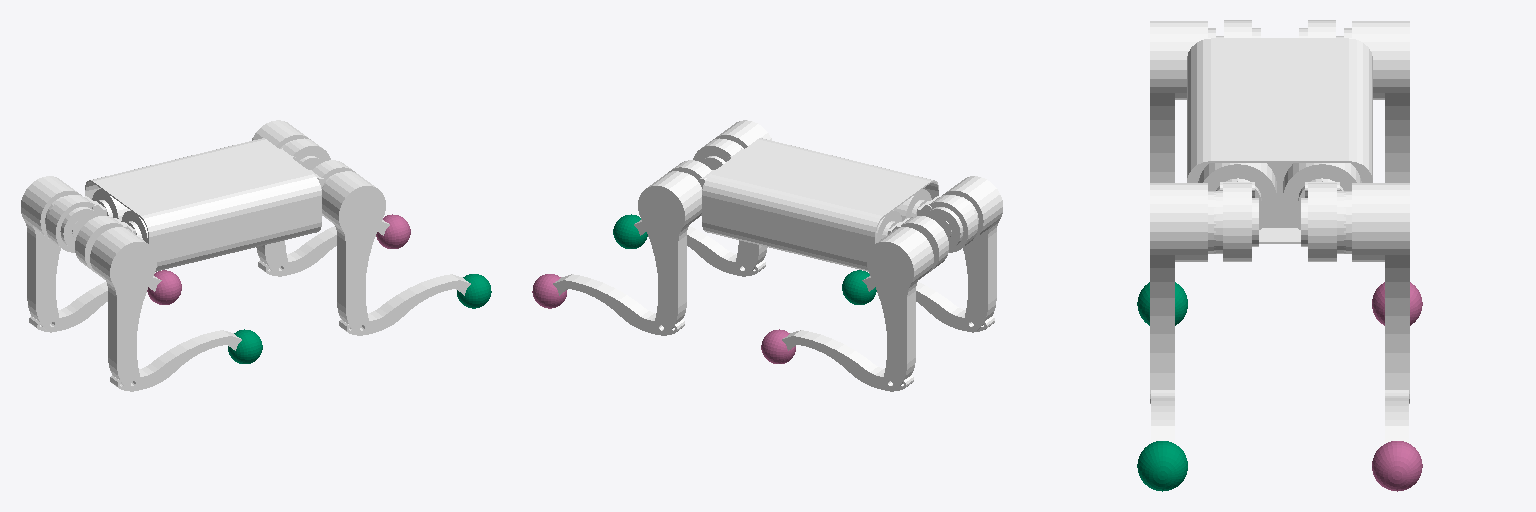
The robot description file, URDF, robot "QXHZZ_description":
<?xml version="1.0" encoding="utf-8"?>
<!-- This URDF was automatically created by SolidWorks to URDF Exporter! Originally created by
Stephen Brawner (brawner@gmail.com) 
     Commit Version: 1.6.0-1-g15f4949  Build Version: 1.6.7594.29634
     For more information, please see http://wiki.ros.org/sw_urdf_exporter -->
<robot name="QXHZZ_description">
    <mujoco>
        <compiler meshdir="../meshes/" balanceinertia="true" discardvisual="false" autolimits="true" />
    </mujoco>
    <!-- 巨大的问题是Bodies touching ground (Indices): tensor([ 3,7,11, 15], device='cuda:0') #实际上 3 7 11 15不同时全部出现
    Feet Indices: tensor([ 4,  8, 12, 16], device='cuda:0') 
    body_names: ['trunk', 'FL_hip', 'FL_thigh', 'FL_calf', 'FL_foot', 'FR_hip', 'FR_thigh', 'FR_calf', 'FR_foot', 
    'RL_hip', 'RL_thigh', 'RL_calf', 'RL_foot', 'RR_hip', 'RR_thigh', 'RR_calf', 'RR_foot', 'imu_link']

    由于calf的collision尺寸比feet大一圈:仿真里是calf而不是feet着地 
    Vertical Contact forces (脚底接触力) 检测不到，matplot数据图里一直是0 
    sphere radius="0.01 0.03
    临时：把fixed_foot z坐标由-0.22改为-0.229，foot碰撞体半径0.02改为0.03
    -->
    <!-- 注：如果asset.collapse_fixed_joints = True时isaacgym检测到两个物体通过 fixed关节连接时，为了节省计算资源，引擎会把他们合并-->
    <link name="base">
        <inertial>
            <origin xyz="-4.5586E-19 7.1229E-19 0" rpy="0 0 0" />
            <mass value="0" />
            <inertia ixx="7.5902E-06" ixy="-2.3832E-38" ixz="0" iyy="5.2382E-06" iyz="2.3545E-22" izz="1.1605E-05" />
        </inertial>
        <visual>
            <origin xyz="0 0 0" rpy="0 0 0" />
            <geometry>
                <mesh filename="../meshes/base_link.STL" />
            </geometry>
            <material name="">
                <color rgba="0.77647 0.75686 0.73725 1" />
            </material>
        </visual>
        <collision>
            <origin xyz="0 0 0" rpy="0 0 0" />
            <geometry>
                <mesh filename="../meshes/base_link.STL" />
            </geometry>
        </collision>
    </link>
    <link name="trunk">
        <inertial>
            <origin xyz="4.6426E-19 -2.7756E-17 2.7406E-17" rpy="0 0 0" />
            <mass value="5.36" />
            <inertia ixx="55862e-6" ixy="0.000000" ixz="0.000000" iyy="96172.757e-6" iyz="0.000000" izz="111591.548e-6" />
        </inertial>
        <visual>
            <origin xyz="0 0 0" rpy="0 0 0" />
            <geometry>
                <mesh filename="../meshes/shenzi.STL" />
            </geometry>
            <material name="">
                <color rgba="1 1 1 1" />
            </material>
        </visual>
        <collision>
            <origin xyz="0 0 0" rpy="0 0 0" />
            <geometry>
                <!-- <box size="0.325 0.27 0.16" /> -->
                <mesh filename="../meshes/shenzi.STL" />
            </geometry>
        </collision>
    </link>
    <joint name="imu_joint" type="fixed">
        <parent link="trunk" />
        <child link="imu_link" />
        <origin rpy="0 0 0" xyz="0 0 0" />
    </joint>
    <joint name="floating_base" type="fixed">
        <origin xyz="0 0 0" rpy="0 0 0" />
        <parent link="base" />
        <child link="trunk" />
        <axis xyz="0 0 0" />
    </joint>
    <!-- #虚拟关节 -->
    <link name="imu_link">
        <inertial>
            <mass value="0.001"/>
            <origin rpy="0 0 0" xyz="0 0 0"/>
            <inertia ixx="0.0001" ixy="0" ixz="0" iyy="0.0001" iyz="0" izz="0.0001" />
        </inertial>
        <visual>
            <origin rpy="0 0 0" xyz="0 0 0"/>
            <geometry>
                <box size="0.001 0.001 0.001"/>
            </geometry>
            <material name="red"/>
        </visual>
        <!-- <collision>
      <origin rpy="0 0 0" xyz="0 0 0"/>
      <geometry>
        <box size=".001 .001 .001"/>
      </geometry>
    </collision> -->
    </link>
    <link name="FL_hip">
        <inertial>
            <origin xyz="-0.040294 -0.0010631 6.4131E-06" rpy="0 0 0" />
            <mass value="0.80054" />
            <inertia ixx="567.387e-6" ixy="4.141e-6" ixz="0.000000" iyy="893.106e-6" iyz="0.000000" izz="630.935e-6" />
        </inertial>
        <visual>
            <origin xyz="0 0 0" rpy="0 0 0" />
            <geometry>
                <mesh filename="../meshes/yq1.STL" />
            </geometry>
            <material name="">
                <color rgba="1 1 1 1" />
            </material>
        </visual>
        <collision>
            <origin xyz="0 0 0" rpy="0 0 0" />
            <geometry>
                <mesh filename="../meshes/yq1.STL" />
            </geometry>
        </collision>
    </link>
    <joint name="FL_hip_joint" type="revolute">
        <origin xyz="0.22599 0.05 0" rpy="0 0 0" />
        <parent link="trunk" />
        <child link="FL_hip" />
        <axis xyz="1 0 0" />
        <limit lower="-1.570796" upper="1.570796" effort="48" velocity="25" />
    </joint>
    <link name="FL_thigh">
        <inertial>
            <origin xyz="0.0030535 -0.015391 -0.04077" rpy="0 0 0" />
            <mass value="1.22" />
            <inertia ixx="8707.219e-6" ixy="0.000000" ixz="487.508e-6" iyy="8424.086e-6" iyz="0.000000" izz="1382.252e-6" />
        </inertial>
        <visual>
            <origin xyz="0 0 0" rpy="0 0 0" />
            <geometry>
                <mesh filename="../meshes/zh2.STL" />
            </geometry>
            <material name="">
                <color rgba="1 1 1 1" />
            </material>
        </visual>
        <collision>
            <origin xyz="0 0 0" rpy="0 0 0" />
            <geometry>
                <mesh filename="../meshes/zh2.STL" />
            </geometry>
        </collision>
    </link>
    <joint name="FL_thigh_joint" type="revolute">
        <origin xyz="0 0.088241 0" rpy="0 0 0" />
        <parent link="FL_hip" />
        <child link="FL_thigh" />
        <axis xyz="0 1 0" />
        <limit lower="-1.570796" upper="3.141593" effort="48" velocity="25" />
    </joint>
    <link name="FL_calf">
        <inertial>
            <origin xyz="-0.0088301 -1.0588E-06 -0.12441" rpy="0 0 0" />
            <mass value="0.53021" />
            <inertia ixx="4322.324e-6" ixy="-0.001e-6" ixz="-254.221e-6" iyy="4363.782e-6" iyz="-0.004e-6" izz="70.443e-6" />
        </inertial>
        <visual>
            <origin xyz="0 0 0" rpy="0 0 0" />
            <geometry>
                <mesh filename="../meshes/zh3.STL" />
            </geometry>
            <material name="">
                <color rgba="1 1 1 1" />
            </material>
        </visual>
        <collision>
            <origin xyz="0 0 0" rpy="0 0 0" />
            <geometry>
                <mesh filename="../meshes/zh3.STL" />
            </geometry>
        </collision>
    </link>
    <joint name="FL_calf_joint" type="revolute">
        <origin xyz="0 0 -0.22023" rpy="0 0 0" />
        <parent link="FL_thigh" />
        <child link="FL_calf" />
        <axis xyz="0 1 0" />
        <limit lower="-2.705260" upper="-0.523599" effort="48" velocity="25" />
    </joint>
    <joint name="FL_foot_fixed" type="fixed" dont_collapse="true">
        <origin rpy="0 0 0" xyz="0 0 -0.229" />
        <parent link="FL_calf" />
        <child link="FL_foot" />
    </joint>
    <!-- #前右固定脚踝 -->
    <link name="FL_foot">
        <visual>
            <origin rpy="0 0 0" xyz="0 0 0" />
            <geometry>
                <sphere radius="0.03" />
            </geometry>
            <material name="orange" />
        </visual>
        <collision>
            <origin rpy="0 0 0" xyz="0 0 0" />
            <geometry>
                <sphere radius="0.03" />
            </geometry>
        </collision>
        <inertial>
            <mass value="0.06" />
            <inertia ixx="9.6e-06" ixy="0.0" ixz="0.0" iyy="9.6e-06" iyz="0.0" izz="9.6e-06" />
        </inertial>
    </link>
    <link name="FR_hip">
        <inertial>
            <origin xyz="-0.040294 0.0010631 6.4131E-06" rpy="0 0 0" />
            <mass value="0.80054" />
            <inertia ixx="567.387e-6" ixy="4.141e-6" ixz="0.000000" iyy="893.106e-6" iyz="0.000000" izz="630.935e-6" />
        </inertial>
        <visual>
            <origin xyz="0 0 0" rpy="0 0 0" />
            <geometry>
                <mesh filename="../meshes/zq1.STL" />
            </geometry>
            <material name="">
                <color rgba="1 1 1 1" />
            </material>
        </visual>
        <collision>
            <origin xyz="0 0 0" rpy="0 0 0" />
            <geometry>
                <mesh filename="../meshes/zq1.STL" />
            </geometry>
        </collision>
    </link>
    <joint name="FR_hip_joint" type="revolute">
        <origin xyz="0.22599 -0.05 0" rpy="0 0 0" />
        <parent link="trunk" />
        <child link="FR_hip" />
        <axis xyz="1 0 0" />
        <limit lower="-1.570796" upper="1.570796" effort="48" velocity="25" />
    </joint>
    <link name="FR_thigh">
        <inertial>
            <origin xyz="0.0030535 0.015391 -0.04077" rpy="0 0 0" />
            <mass value="1.22" />
            <inertia ixx="8707.219e-6" ixy="0.000000" ixz="487.508e-6" iyy="8424.086e-6" iyz="0.000000" izz="1382.252e-6" />
        </inertial>
        <visual>
            <origin xyz="0 0 0" rpy="0 0 0" />
            <geometry>
                <mesh filename="../meshes/yh2.STL" />
            </geometry>
            <material name="">
                <color rgba="1 1 1 1" />
            </material>
        </visual>
        <collision>
            <origin xyz="0 0 0" rpy="0 0 0" />
            <geometry>
                <mesh filename="../meshes/yh2.STL" />
            </geometry>
        </collision>
    </link>
    <joint name="FR_thigh_joint" type="revolute">
        <origin xyz="0 -0.088241 0" rpy="0 0 0" />
        <parent link="FR_hip" />
        <child link="FR_thigh" />
        <axis xyz="0 1 0" />
        <limit lower="-1.570796" upper="3.141593" effort="48" velocity="25" />
    </joint>
    <link name="FR_calf">
        <inertial>
            <origin xyz="-0.0088301 1.0703E-06 -0.12441" rpy="0 0 0" />
            <mass value="0.53021" />
            <inertia ixx="4322.324e-6" ixy="-0.001e-6" ixz="-254.221e-6" iyy="4363.782e-6" iyz="-0.004e-6" izz="70.443e-6" />
        </inertial>
        <visual>
            <origin xyz="0 0 0" rpy="0 0 0" />
            <geometry>
                <mesh filename="../meshes/yh3.STL" />
            </geometry>
            <material name="">
                <color rgba="1 1 1 1" />
            </material>
        </visual>
        <collision>
            <origin xyz="0 0 0" rpy="0 0 0" />
            <geometry>
                <mesh filename="../meshes/yh3.STL" />
            </geometry>
        </collision>
    </link>
    <joint name="FR_calf_joint" type="revolute">
        <origin xyz="0 0 -0.22023" rpy="0 0 0" />
        <parent link="FR_thigh" />
        <child link="FR_calf" />
        <axis xyz="0 1 0" />
        <limit lower="-2.705260" upper="-0.523599" effort="48" velocity="25" />
    </joint>
    <joint name="FR_foot_fixed" type="fixed" dont_collapse="true">
        <origin rpy="0 0 0" xyz="0 0 -0.229" />
        <parent link="FR_calf" />
        <child link="FR_foot" />
    </joint>
    <!-- #前右固定脚踝 -->
    <link name="FR_foot">
        <visual>
            <origin rpy="0 0 0" xyz="0 0 0" />
            <geometry>
                <sphere radius="0.03" />
            </geometry>
            <material name="orange" />
        </visual>
        <collision>
            <origin rpy="0 0 0" xyz="0 0 0" />
            <geometry>
                <sphere radius="0.03" />
            </geometry>
        </collision>
        <inertial>
            <mass value="0.06" />
            <inertia ixx="9.6e-06" ixy="0.0" ixz="0.0" iyy="9.6e-06" iyz="0.0" izz="9.6e-06" />
        </inertial>
    </link>
    <link name="RL_hip">
        <inertial>
            <origin xyz="0.040294 -0.0010631 6.4131E-06" rpy="0 0 0" />
            <mass value="0.80054" />
            <inertia ixx="567.387e-6" ixy="4.141e-6" ixz="0.000000" iyy="893.106e-6" iyz="0.000000" izz="630.935e-6" />
        </inertial>
        <visual>
            <origin xyz="0 0 0" rpy="0 0 0" />
            <geometry>
                <mesh filename="../meshes/zh1.STL" />
            </geometry>
            <material name="">
                <color rgba="1 1 1 1" />
            </material>
        </visual>
        <collision>
            <origin xyz="0 0 0" rpy="0 0 0" />
            <geometry>
                <mesh filename="../meshes/zh1.STL" />
            </geometry>
        </collision>
    </link>
    <joint name="RL_hip_joint" type="revolute">
        <origin xyz="-0.22599 0.05 0" rpy="0 0 0" />
        <parent link="trunk" />
        <child link="RL_hip" />
        <axis xyz="1 0 0" />
        <limit lower="-1.570796" upper="1.570796" effort="48" velocity="25" />
    </joint>
    <link name="RL_thigh">
        <inertial>
            <origin xyz="-0.0030535 -0.015391 -0.04077" rpy="0 0 0" />
            <mass value="1.22" />
            <inertia ixx="8707.219e-6" ixy="0.000000" ixz="487.508e-6" iyy="8424.086e-6" iyz="0.000000" izz="1382.252e-6" />
        </inertial>
        <visual>
            <origin xyz="0 0 0" rpy="0 0 0" />
            <geometry>
                <mesh filename="../meshes/zh2.STL" />
            </geometry>
            <material name="">
                <color rgba="1 1 1 1" />
            </material>
        </visual>
        <collision>
            <origin xyz="0 0 0" rpy="0 0 0" />
            <geometry>
                <mesh filename="../meshes/zh2.STL" />
            </geometry>
        </collision>
    </link>
    <joint name="RL_thigh_joint" type="revolute">
        <origin xyz="0 0.088241 0" rpy="0 0 0" />
        <parent link="RL_hip" />
        <child link="RL_thigh" />
        <axis xyz="0 1 0" />
        <limit lower="-1.570796" upper="3.141593" effort="48" velocity="25" />
    </joint>
    <link name="RL_calf">
        <inertial>
            <origin xyz="0.0088301 -1.0703E-06 -0.12441" rpy="0 0 0" />
            <mass value="0.53021" />
            <inertia ixx="4322.324e-6" ixy="-0.001e-6" ixz="-254.221e-6" iyy="4363.782e-6" iyz="-0.004e-6" izz="70.443e-6" />
        </inertial>
        <visual>
            <origin xyz="0 0 0" rpy="0 0 0" />
            <geometry>
                <mesh filename="../meshes/zh3.STL" />
            </geometry>
            <material name="">
                <color rgba="1 1 1 1" />
            </material>
        </visual>
        <collision>
            <origin xyz="0 0 0" rpy="0 0 0" />
            <geometry>
                <mesh filename="../meshes/zh3.STL" />
            </geometry>
        </collision>
    </link>
    <joint name="RL_calf_joint" type="revolute">
        <origin xyz="0 0 -0.22023" rpy="0 0 0" />
        <parent link="RL_thigh" />
        <child link="RL_calf" />
        <axis xyz="0 1 0" />
        <limit lower="-2.705260" upper="-0.523599" effort="48" velocity="25" />
    </joint>
    <joint name="RL_foot_fixed" type="fixed" dont_collapse="true">
        <origin rpy="0 0 0" xyz="0 0 -0.229" />
        <parent link="RL_calf" />
        <child link="RL_foot" />
    </joint>
    <!-- #前右固定脚踝 -->
    <link name="RL_foot">
        <visual>
            <origin rpy="0 0 0" xyz="0 0 0" />
            <geometry>
                <sphere radius="0.03" />
            </geometry>
            <material name="orange" />
        </visual>
        <collision>
            <origin rpy="0 0 0" xyz="0 0 0" />
            <geometry>
                <sphere radius="0.03" />
            </geometry>
        </collision>
        <inertial>
            <mass value="0.06" />
            <inertia ixx="9.6e-06" ixy="0.0" ixz="0.0" iyy="9.6e-06" iyz="0.0" izz="9.6e-06" />
        </inertial>
    </link>
    <link name="RR_hip">
        <inertial>
            <origin xyz="0.040294 0.0010631 6.4131E-06" rpy="0 0 0" />
            <mass value="0.80054" />
            <inertia ixx="567.387e-6" ixy="4.141e-6" ixz="0.000000" iyy="893.106e-6" iyz="0.000000" izz="630.935e-6" />
        </inertial>
        <visual>
            <origin xyz="0 0 0" rpy="0 0 0" />
            <geometry>
                <mesh filename="../meshes/yh1.STL" />
            </geometry>
            <material name="">
                <color rgba="1 1 1 1" />
            </material>
        </visual>
        <collision>
            <origin xyz="0 0 0" rpy="0 0 0" />
            <geometry>
                <mesh filename="../meshes/yh1.STL" />
            </geometry>
        </collision>
    </link>
    <joint name="RR_hip_joint" type="revolute">
        <origin xyz="-0.22599 -0.05 0" rpy="0 0 0" />
        <parent link="trunk" />
        <child link="RR_hip" />
        <axis xyz="1 0 0" />
        <limit lower="-1.570796" upper="1.570796" effort="48" velocity="25" />
    </joint>
    <link name="RR_thigh">
        <inertial>
            <origin xyz="-0.0030535 0.015391 -0.04077" rpy="0 0 0" />
            <mass value="1.22" />
            <inertia ixx="8707.219e-6" ixy="0.000000" ixz="487.508e-6" iyy="8424.086e-6" iyz="0.000000" izz="1382.252e-6" />
        </inertial>
        <visual>
            <origin xyz="0 0 0" rpy="0 0 0" />
            <geometry>
                <mesh filename="../meshes/yh2.STL" />
            </geometry>
            <material name="">
                <color rgba="1 1 1 1" />
            </material>
        </visual>
        <collision>
            <origin xyz="0 0 0" rpy="0 0 0" />
            <geometry>
                <mesh filename="../meshes/yh2.STL" />
            </geometry>
        </collision>
    </link>
    <joint name="RR_thigh_joint" type="revolute">
        <origin xyz="0 -0.088241 0" rpy="0 0 0" />
        <parent link="RR_hip" />
        <child link="RR_thigh" />
        <axis xyz="0 1 0" />
        <limit lower="-1.570796" upper="3.141593" effort="48" velocity="25" />
    </joint>
    <link name="RR_calf">
        <inertial>
            <origin xyz="0.0088301 1.0588E-06 -0.12441" rpy="0 0 0" />
            <mass value="0.53021" />
            <inertia ixx="4322.324e-6" ixy="-0.001e-6" ixz="-254.221e-6" iyy="4363.782e-6" iyz="-0.004e-6" izz="70.443e-6" />
        </inertial>
        <visual>
            <origin xyz="0 0 0" rpy="0 0 0" />
            <geometry>
                <mesh filename="../meshes/yh3.STL" />
            </geometry>
            <material name="">
                <color rgba="1 1 1 1" />
            </material>
        </visual>
        <collision>
            <origin xyz="0 0 0" rpy="0 0 0" />
            <geometry>
                <mesh filename="../meshes/yh3.STL" />
            </geometry>
        </collision>
    </link>
    <joint name="RR_calf_joint" type="revolute">
        <origin xyz="0 0 -0.22023" rpy="0 0 0" />
        <parent link="RR_thigh" />
        <child link="RR_calf" />
        <axis xyz="0 1 0" />
        <limit lower="-2.705260" upper="-0.523599" effort="48" velocity="25" />
    </joint>
    <joint name="RR_foot_fixed" type="fixed" dont_collapse="true">
        <origin rpy="0 0 0" xyz="0 0 -0.229" />
        <parent link="RR_calf" />
        <child link="RR_foot" />
    </joint>
    <!-- #前右固定脚踝 -->
    <link name="RR_foot">
        <visual>
            <origin rpy="0 0 0" xyz="0 0 0" />
            <geometry>
                <sphere radius="0.03" />
            </geometry>
            <material name="orange" />
        </visual>
        <collision>
            <origin rpy="0 0 0" xyz="0 0 0" />
            <geometry>
                <sphere radius="0.03" />
            </geometry>
        </collision>
        <inertial>
            <mass value="0.06" />
            <inertia ixx="9.6e-06" ixy="0.0" ixz="0.0" iyy="9.6e-06" iyz="0.0" izz="9.6e-06" />
        </inertial>
    </link>
</robot>

--- Facts derived from the render (not from the file) ---
Views: 3 orthographic renders of the robot side by side, from view 1: azimuth 30°, elevation 25°; view 2: azimuth 150°, elevation 25°; view 3: azimuth 270°, elevation 25°.
Model QXHZZ_description with 19 links and 18 joints (12 revolute, 6 fixed), rooted at base, posed all joints at 0 but 4 set to mid-range because 0 is outside their limits (FL_calf_joint = -1.61, FR_calf_joint = -1.61, RL_calf_joint = -1.61, RR_calf_joint = -1.61).
Visible links, largest first — view 1: trunk, RR_thigh, FR_thigh, RL_thigh, RL_hip, FR_calf, RR_calf, FL_thigh, RR_hip, RL_calf, FL_calf, FL_hip (+5 smaller); view 2: trunk, RL_thigh, FL_thigh, RR_thigh, RR_hip, FL_calf, RL_calf, FR_thigh, RL_hip, RR_calf, FR_calf, FR_hip (+5 smaller); view 3: trunk, FL_thigh, FR_thigh, RL_thigh, RR_thigh, FL_hip, FR_hip, FL_foot, FR_foot, FL_calf, FR_calf, RL_foot (+3 smaller).
Link boxes in pixels (box(x1,y1,x2,y2)): trunk: box(85, 138, 321, 271); RR_thigh: box(90, 227, 156, 391); FR_thigh: box(322, 171, 385, 335); RL_thigh: box(21, 176, 81, 332); RL_hip: box(46, 189, 129, 252); FR_calf: box(339, 274, 470, 335); RR_calf: box(110, 330, 241, 390); FL_thigh: box(252, 120, 310, 276); RR_hip: box(75, 210, 147, 271); RL_calf: box(29, 276, 161, 331); FL_calf: box(258, 220, 389, 275); FL_hip: box(280, 138, 330, 169); trunk: box(702, 138, 938, 271); RL_thigh: box(867, 227, 933, 391); FL_thigh: box(638, 171, 701, 335); RR_thigh: box(942, 176, 1002, 332); RR_hip: box(894, 189, 977, 252); FL_calf: box(553, 274, 684, 335); RL_calf: box(782, 330, 913, 390); FR_thigh: box(713, 120, 771, 276); RL_hip: box(876, 210, 948, 271); RR_calf: box(862, 276, 994, 331); FR_calf: box(634, 220, 765, 275); FR_hip: box(693, 138, 743, 169); trunk: box(1187, 38, 1372, 243); FL_thigh: box(1344, 183, 1409, 403); FR_thigh: box(1150, 183, 1215, 403); RL_thigh: box(1344, 21, 1409, 182); RR_thigh: box(1150, 21, 1215, 182); FL_hip: box(1283, 163, 1361, 261); FR_hip: box(1198, 163, 1276, 261); FL_foot: box(1372, 441, 1422, 491); FR_foot: box(1137, 441, 1187, 491); FL_calf: box(1385, 390, 1408, 443); FR_calf: box(1151, 390, 1174, 443); RL_foot: box(1372, 282, 1422, 325).
Bounding box of the posed robot: 0.7576 × 0.3365 × 0.2942 m (x, y, z).
14 mesh visuals loaded from 10 distinct referenced files (10 binary STL).
